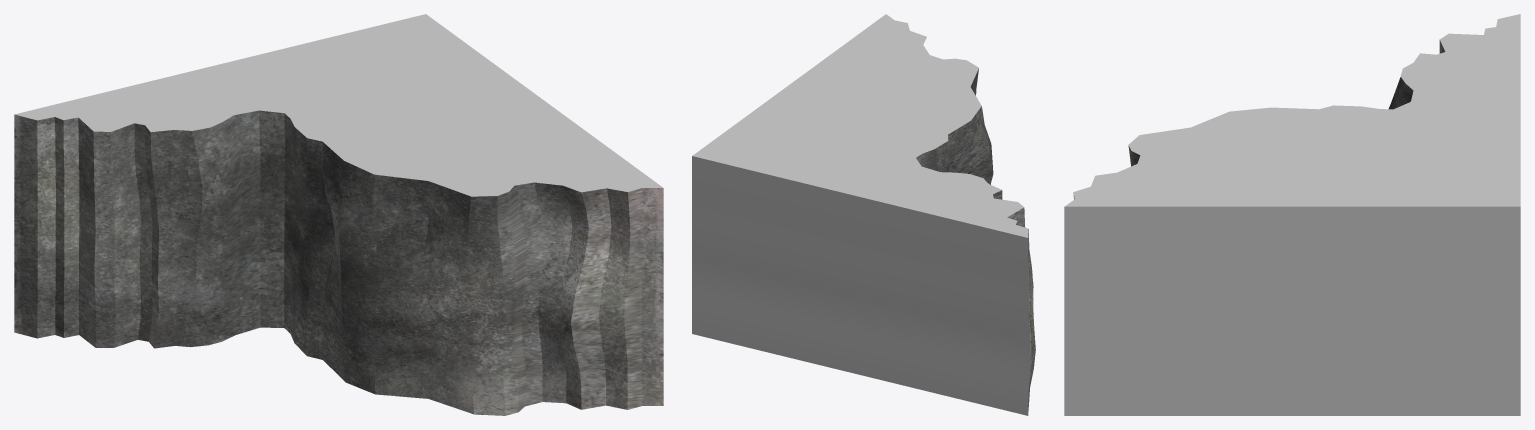
The model's file is BrokenConcretePiece2.fbx.
3 views of the same model, side by side, from view 1: azimuth 30°, elevation 25°; view 2: azimuth 150°, elevation 25°; view 3: azimuth 270°, elevation 25° (orthographic). The views are drawn at different scales.
Visible parts, largest first — view 1: ConcreteBlockBrokenPiece1; view 2: ConcreteBlockBrokenPiece1; view 3: ConcreteBlockBrokenPiece1.
Boxes of the visible parts, <box> form: ConcreteBlockBrokenPiece1: <box>14,14,663,415</box>; ConcreteBlockBrokenPiece1: <box>692,14,1035,415</box>; ConcreteBlockBrokenPiece1: <box>1064,14,1520,415</box>.
Size of what is drawn, in the model's own units: 422 by 213 by 420.
